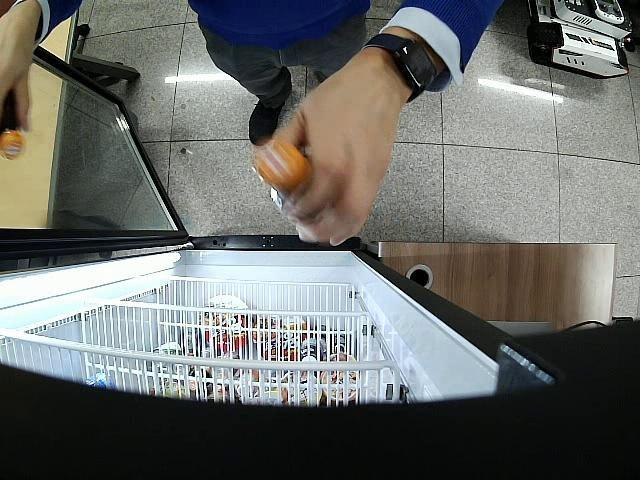17_vita500: (254, 142, 311, 190), (2, 87, 24, 162)
